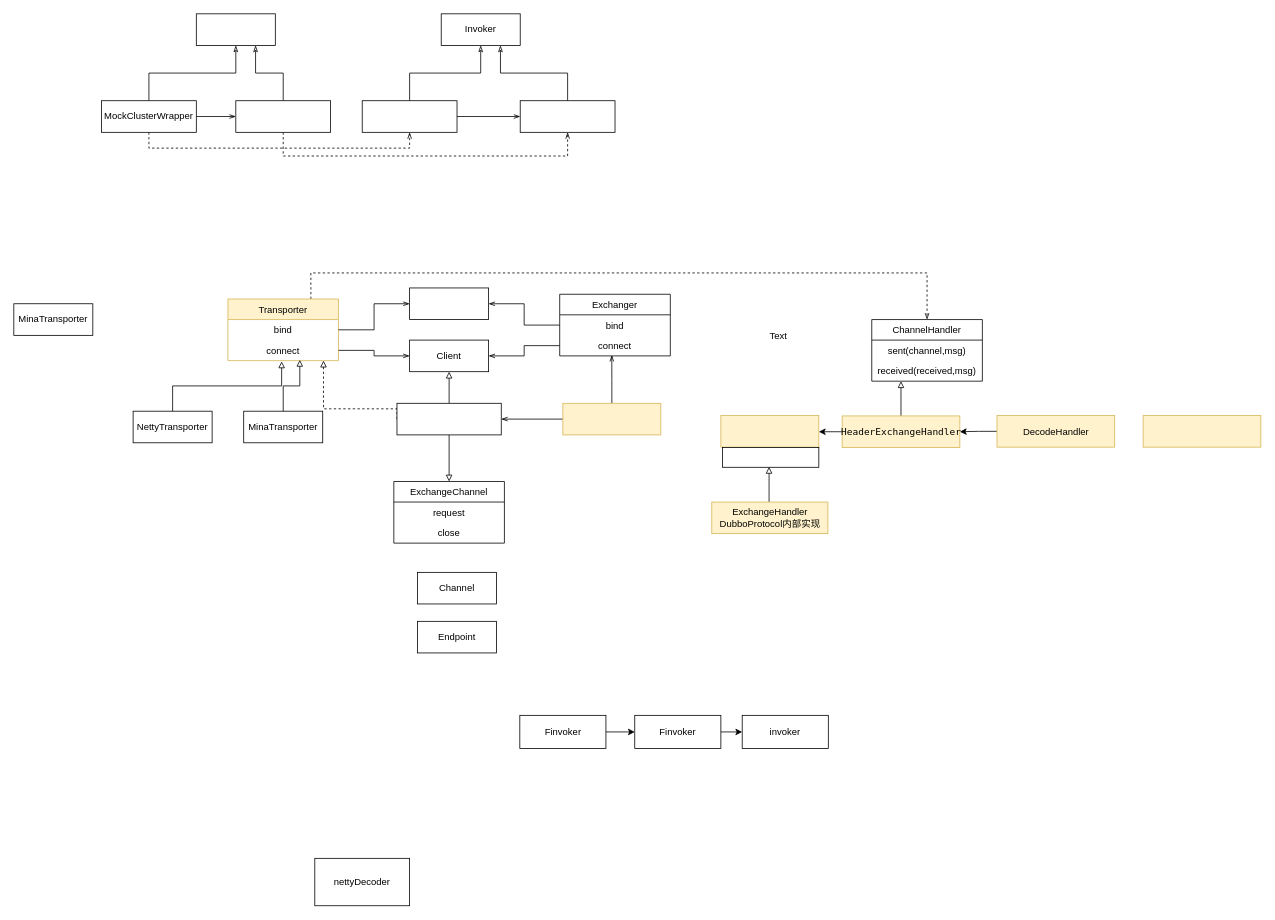
The diagram is 1275 pixels wide and 920 high, and some of its shapes have lost their labels. Each missing label, with the centre of its shape:
AllChannelHandler: the point at 1201,431
Cluster: the point at 235,29
ExchangeHandler: the point at 769,431
FailFastCluster: the point at 283,116
FailfastClusterInvoker: the point at 567,116
HeaderExchanger: the point at 611,419
HeaderExchangerClient: the point at 448,419
MockClusterInvoker: the point at 409,116
reply: the point at 770,457
Server: the point at 449,303
